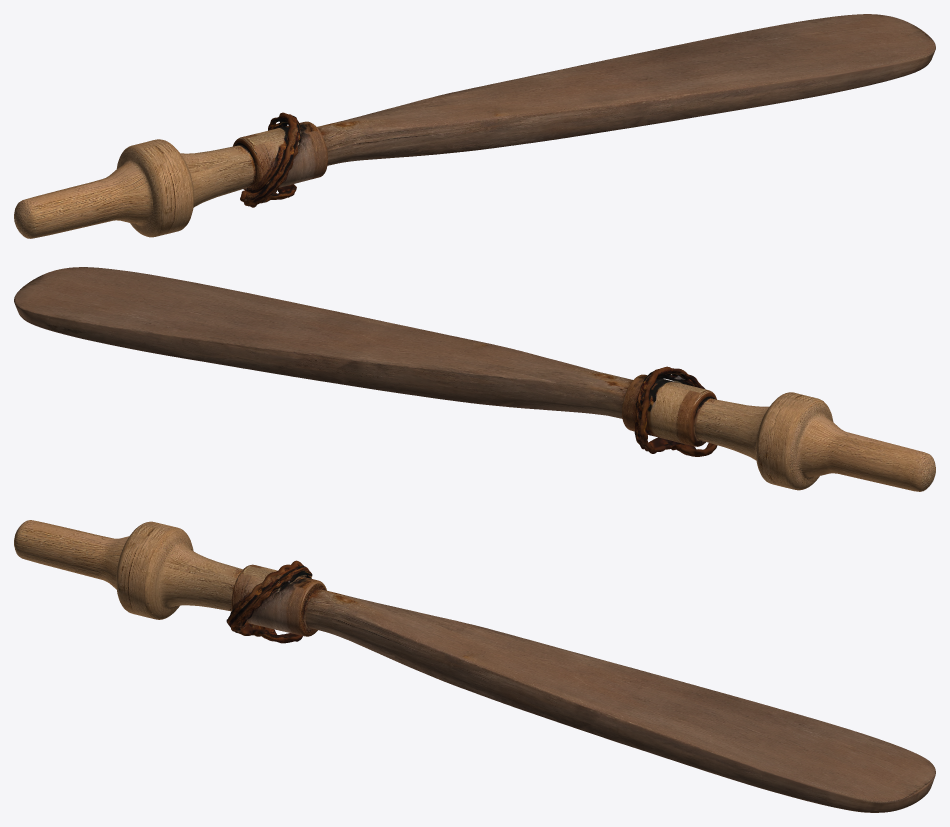
The model's file is oar.glb.
3 views of the same model, one above another, from view 1: azimuth 30°, elevation 25°; view 2: azimuth 150°, elevation 25°; view 3: azimuth 330°, elevation 25° (orthographic).
Visible parts, largest first — view 1: Mesh_0; view 2: Mesh_0; view 3: Mesh_0.
Boxes of the visible parts, x1,y1,x2,y2 form: Mesh_0: (14, 14, 935, 238); Mesh_0: (14, 267, 935, 491); Mesh_0: (14, 520, 935, 812).
Size of the model in its own units: 1.9 by 0.1719 by 0.24.
Materials: 1 (1 with a texture image).
